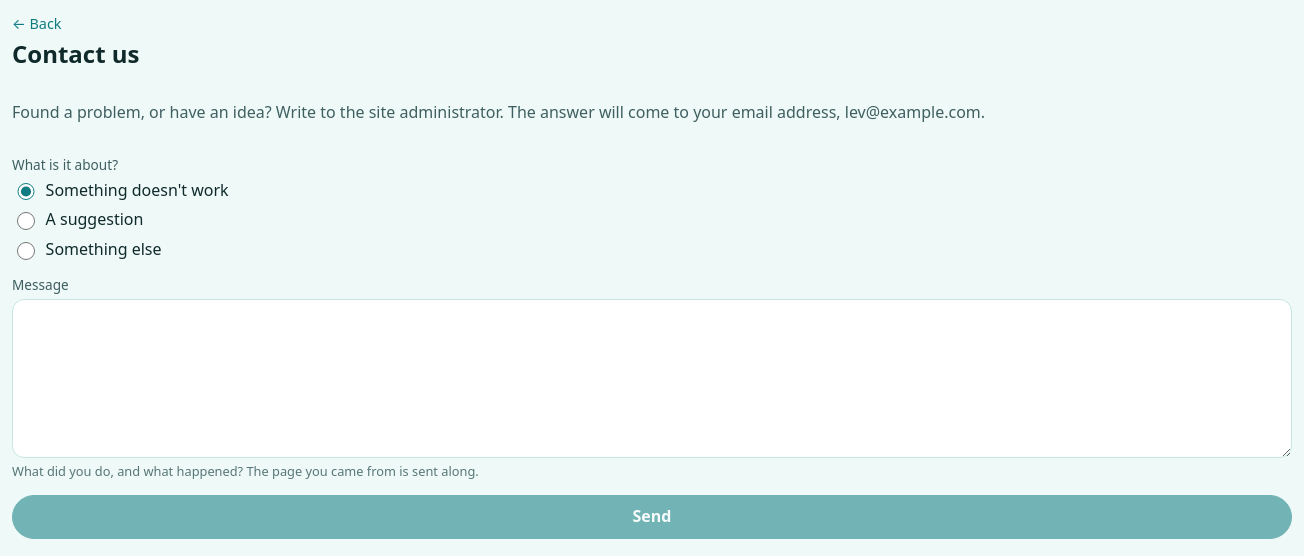
Test: Contact us › sends the topic, the message and the page the member came from
Click the radio button labelled "A suggestion": {"x": 26, "y": 221} x1=17 y1=212 x2=35 y2=230
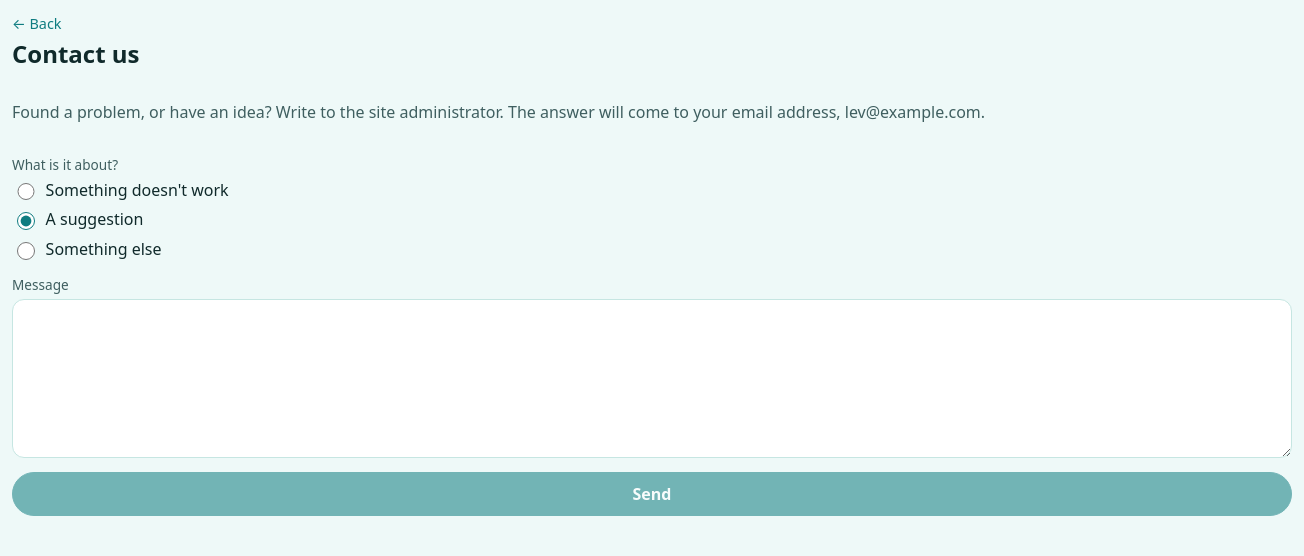
In the text box labelled "Message": {"x": 652, "y": 378} x1=12 y1=299 x2=1292 y2=458, type "A dark theme, please"
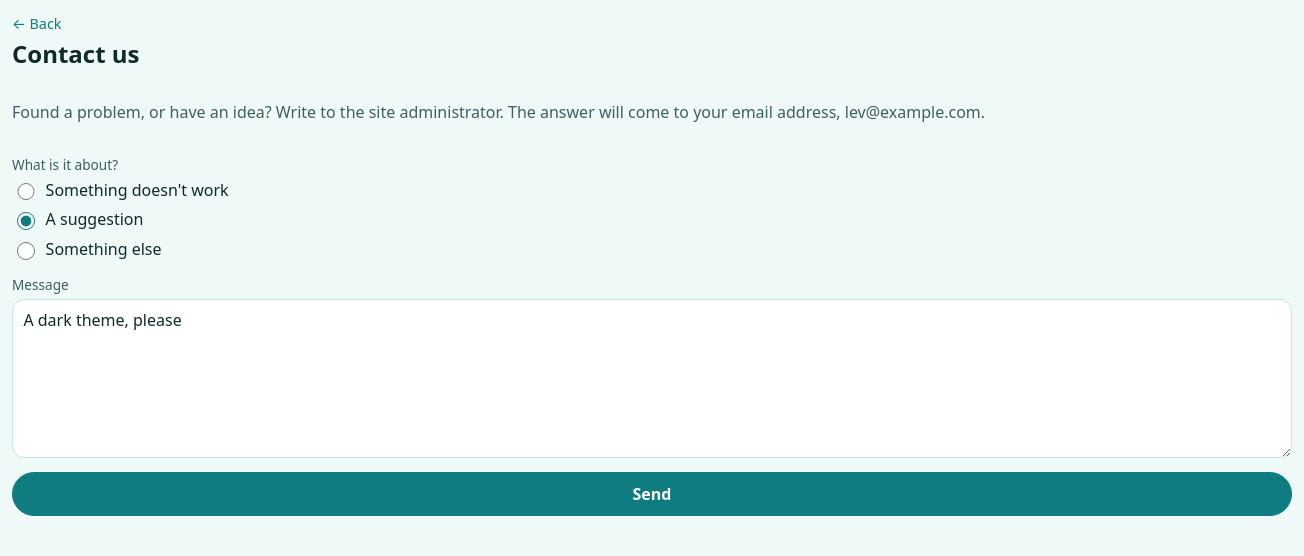
Click the button "Send": {"x": 652, "y": 494} x1=12 y1=472 x2=1292 y2=516
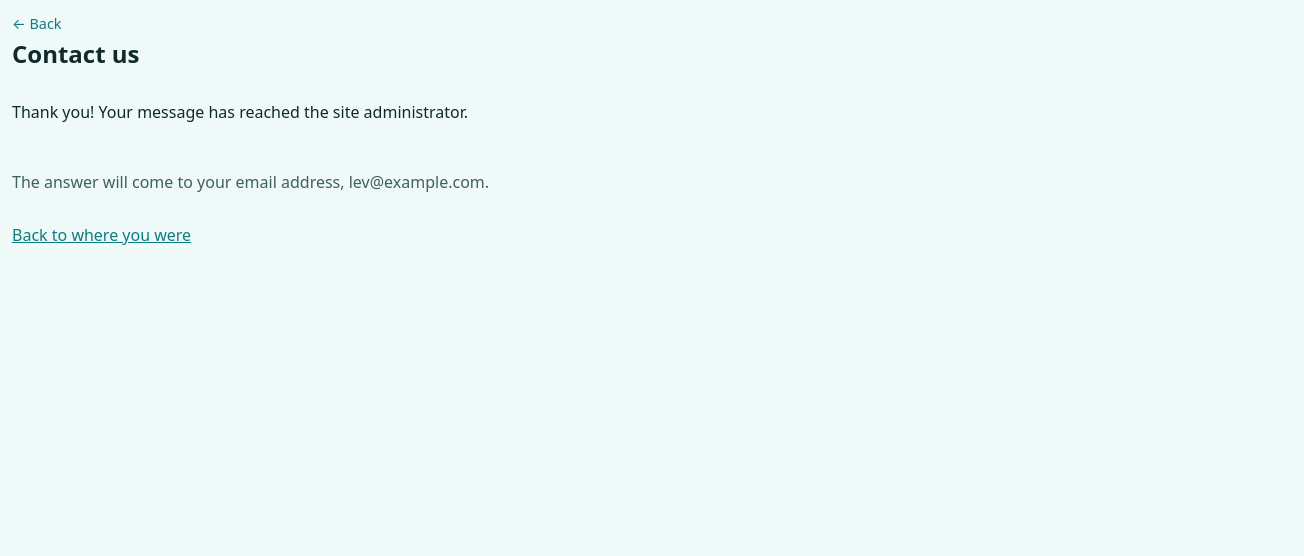
Now the text "Thank you! Your message has reached the site administrator." is shown, box x1=12 y1=101 x2=468 y2=123
